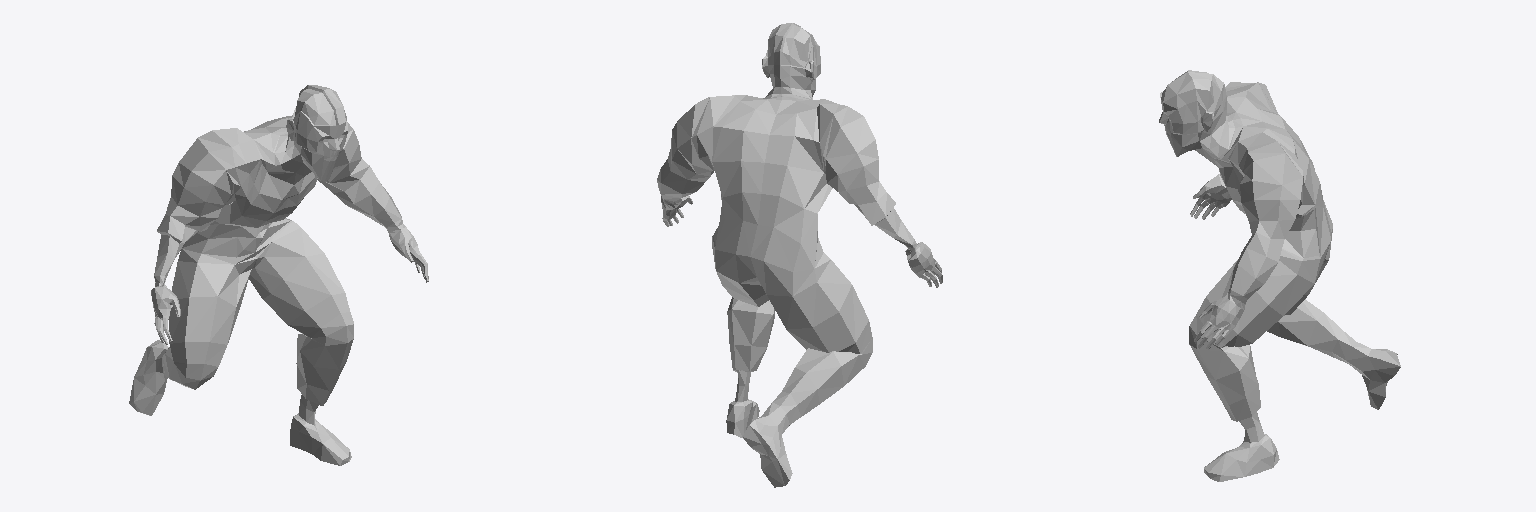
File: ZombieWalk(10).obj
3 renders of one model, left to right at view 1: azimuth 30°, elevation 25°; view 2: azimuth 150°, elevation 25°; view 3: azimuth 270°, elevation 25°, orthographic.
Parts seen in each view (by area): view 1: Plane002; view 2: Plane002; view 3: Plane002.
Boxes of the visible parts, <box> form: Plane002: <box>129,85,428,465</box>; Plane002: <box>657,23,942,487</box>; Plane002: <box>1159,70,1400,481</box>.
Bounding box in the file's own units: 1066 × 1453 × 821.